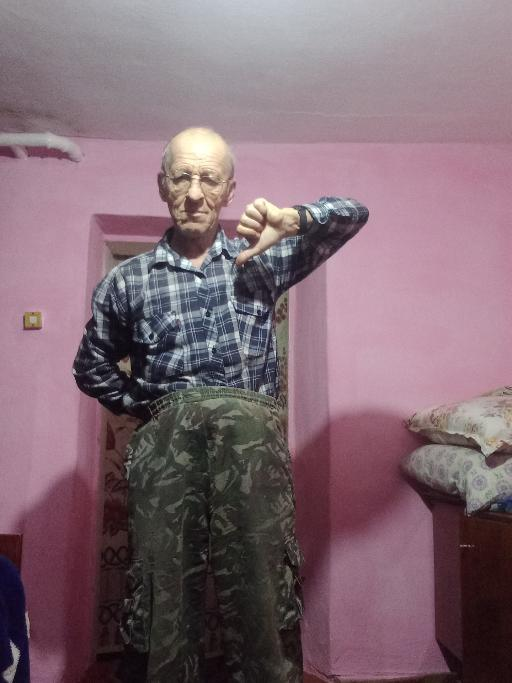dislike: (232, 194, 288, 270)
